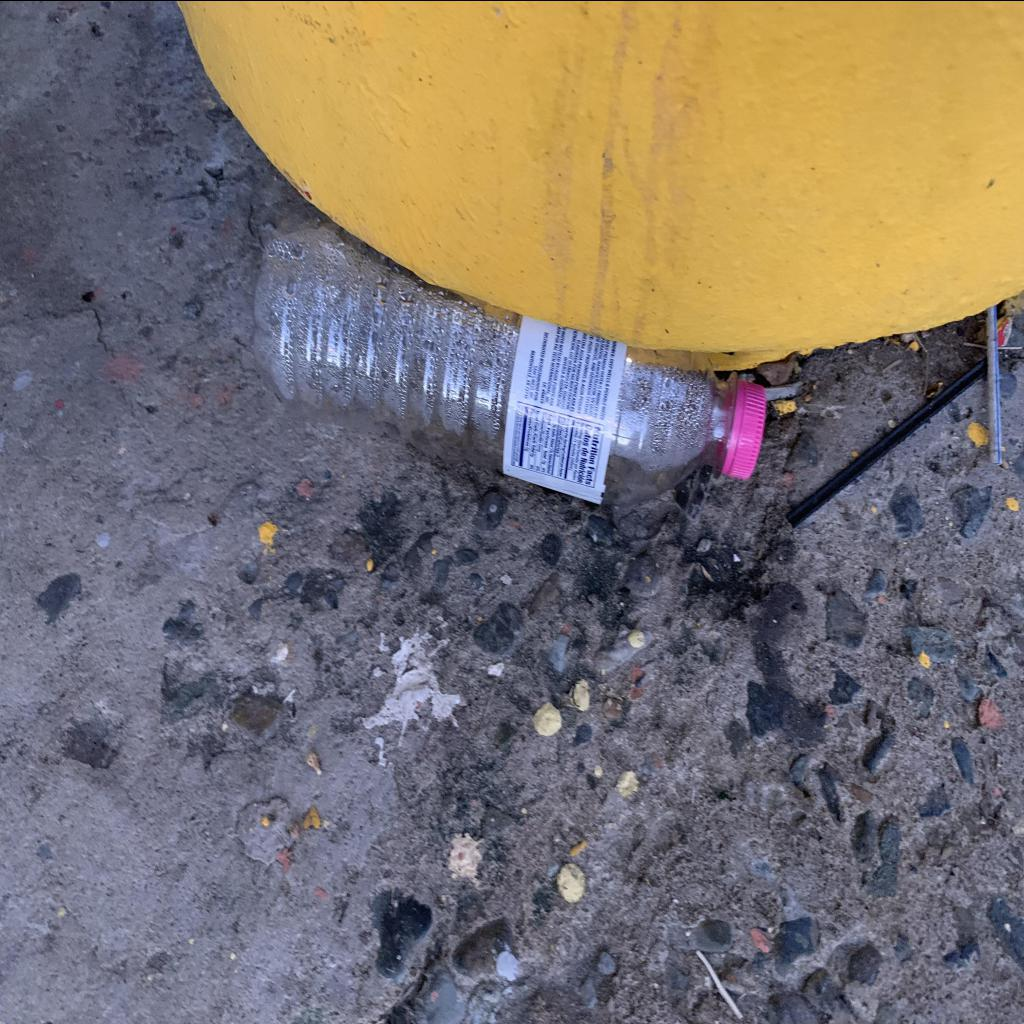Clear plastic bottle: (254, 226, 766, 506)
Plastic bottle cap: (728, 380, 766, 480)
Plastic straw: (786, 356, 986, 528), (986, 305, 1004, 465)
